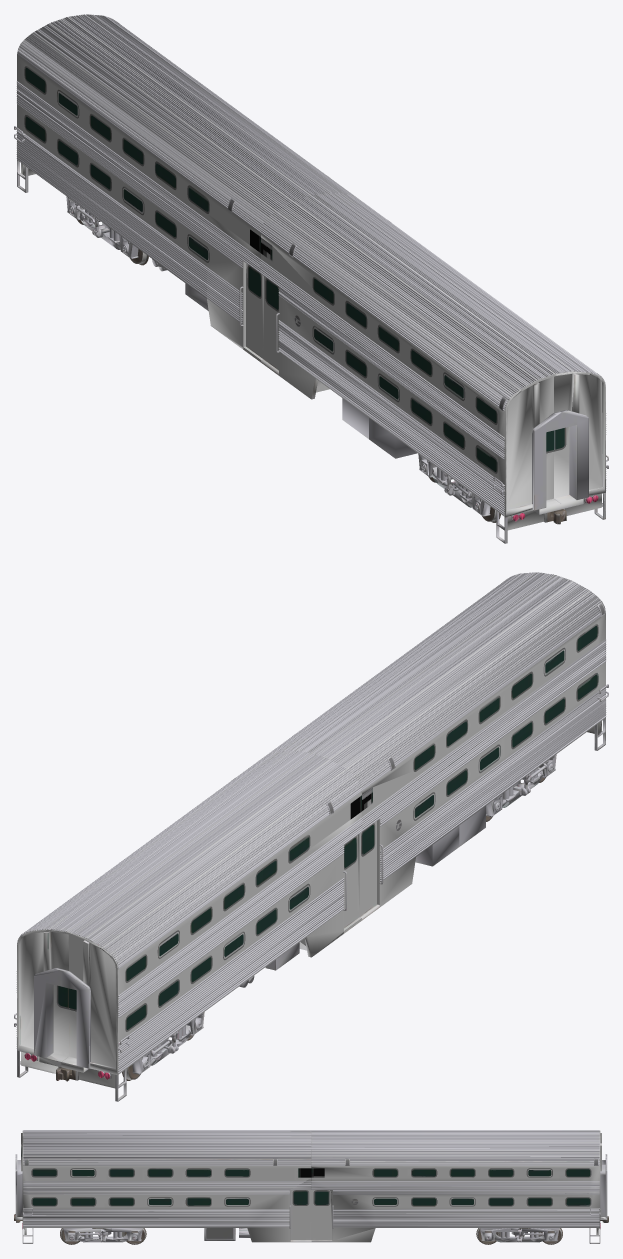
Rendered from metra_car.glb.
The picture shows the model from 3 angles, top to bottom: view 1: azimuth 30°, elevation 25°; view 2: azimuth 150°, elevation 25°; view 3: azimuth 270°, elevation 25°; orthographic projection. The views are drawn at different scales.
Parts seen in each view (by area): view 1: metra_car; view 2: metra_car; view 3: metra_car.
Part boxes in pixels (<box>): metra_car: <box>14,14,608,543</box>; metra_car: <box>14,572,608,1101</box>; metra_car: <box>14,1130,608,1244</box>.
Bounding box in the file's own units: 1.79 × 2.75 × 14.52.
1 material, 1 textured.
